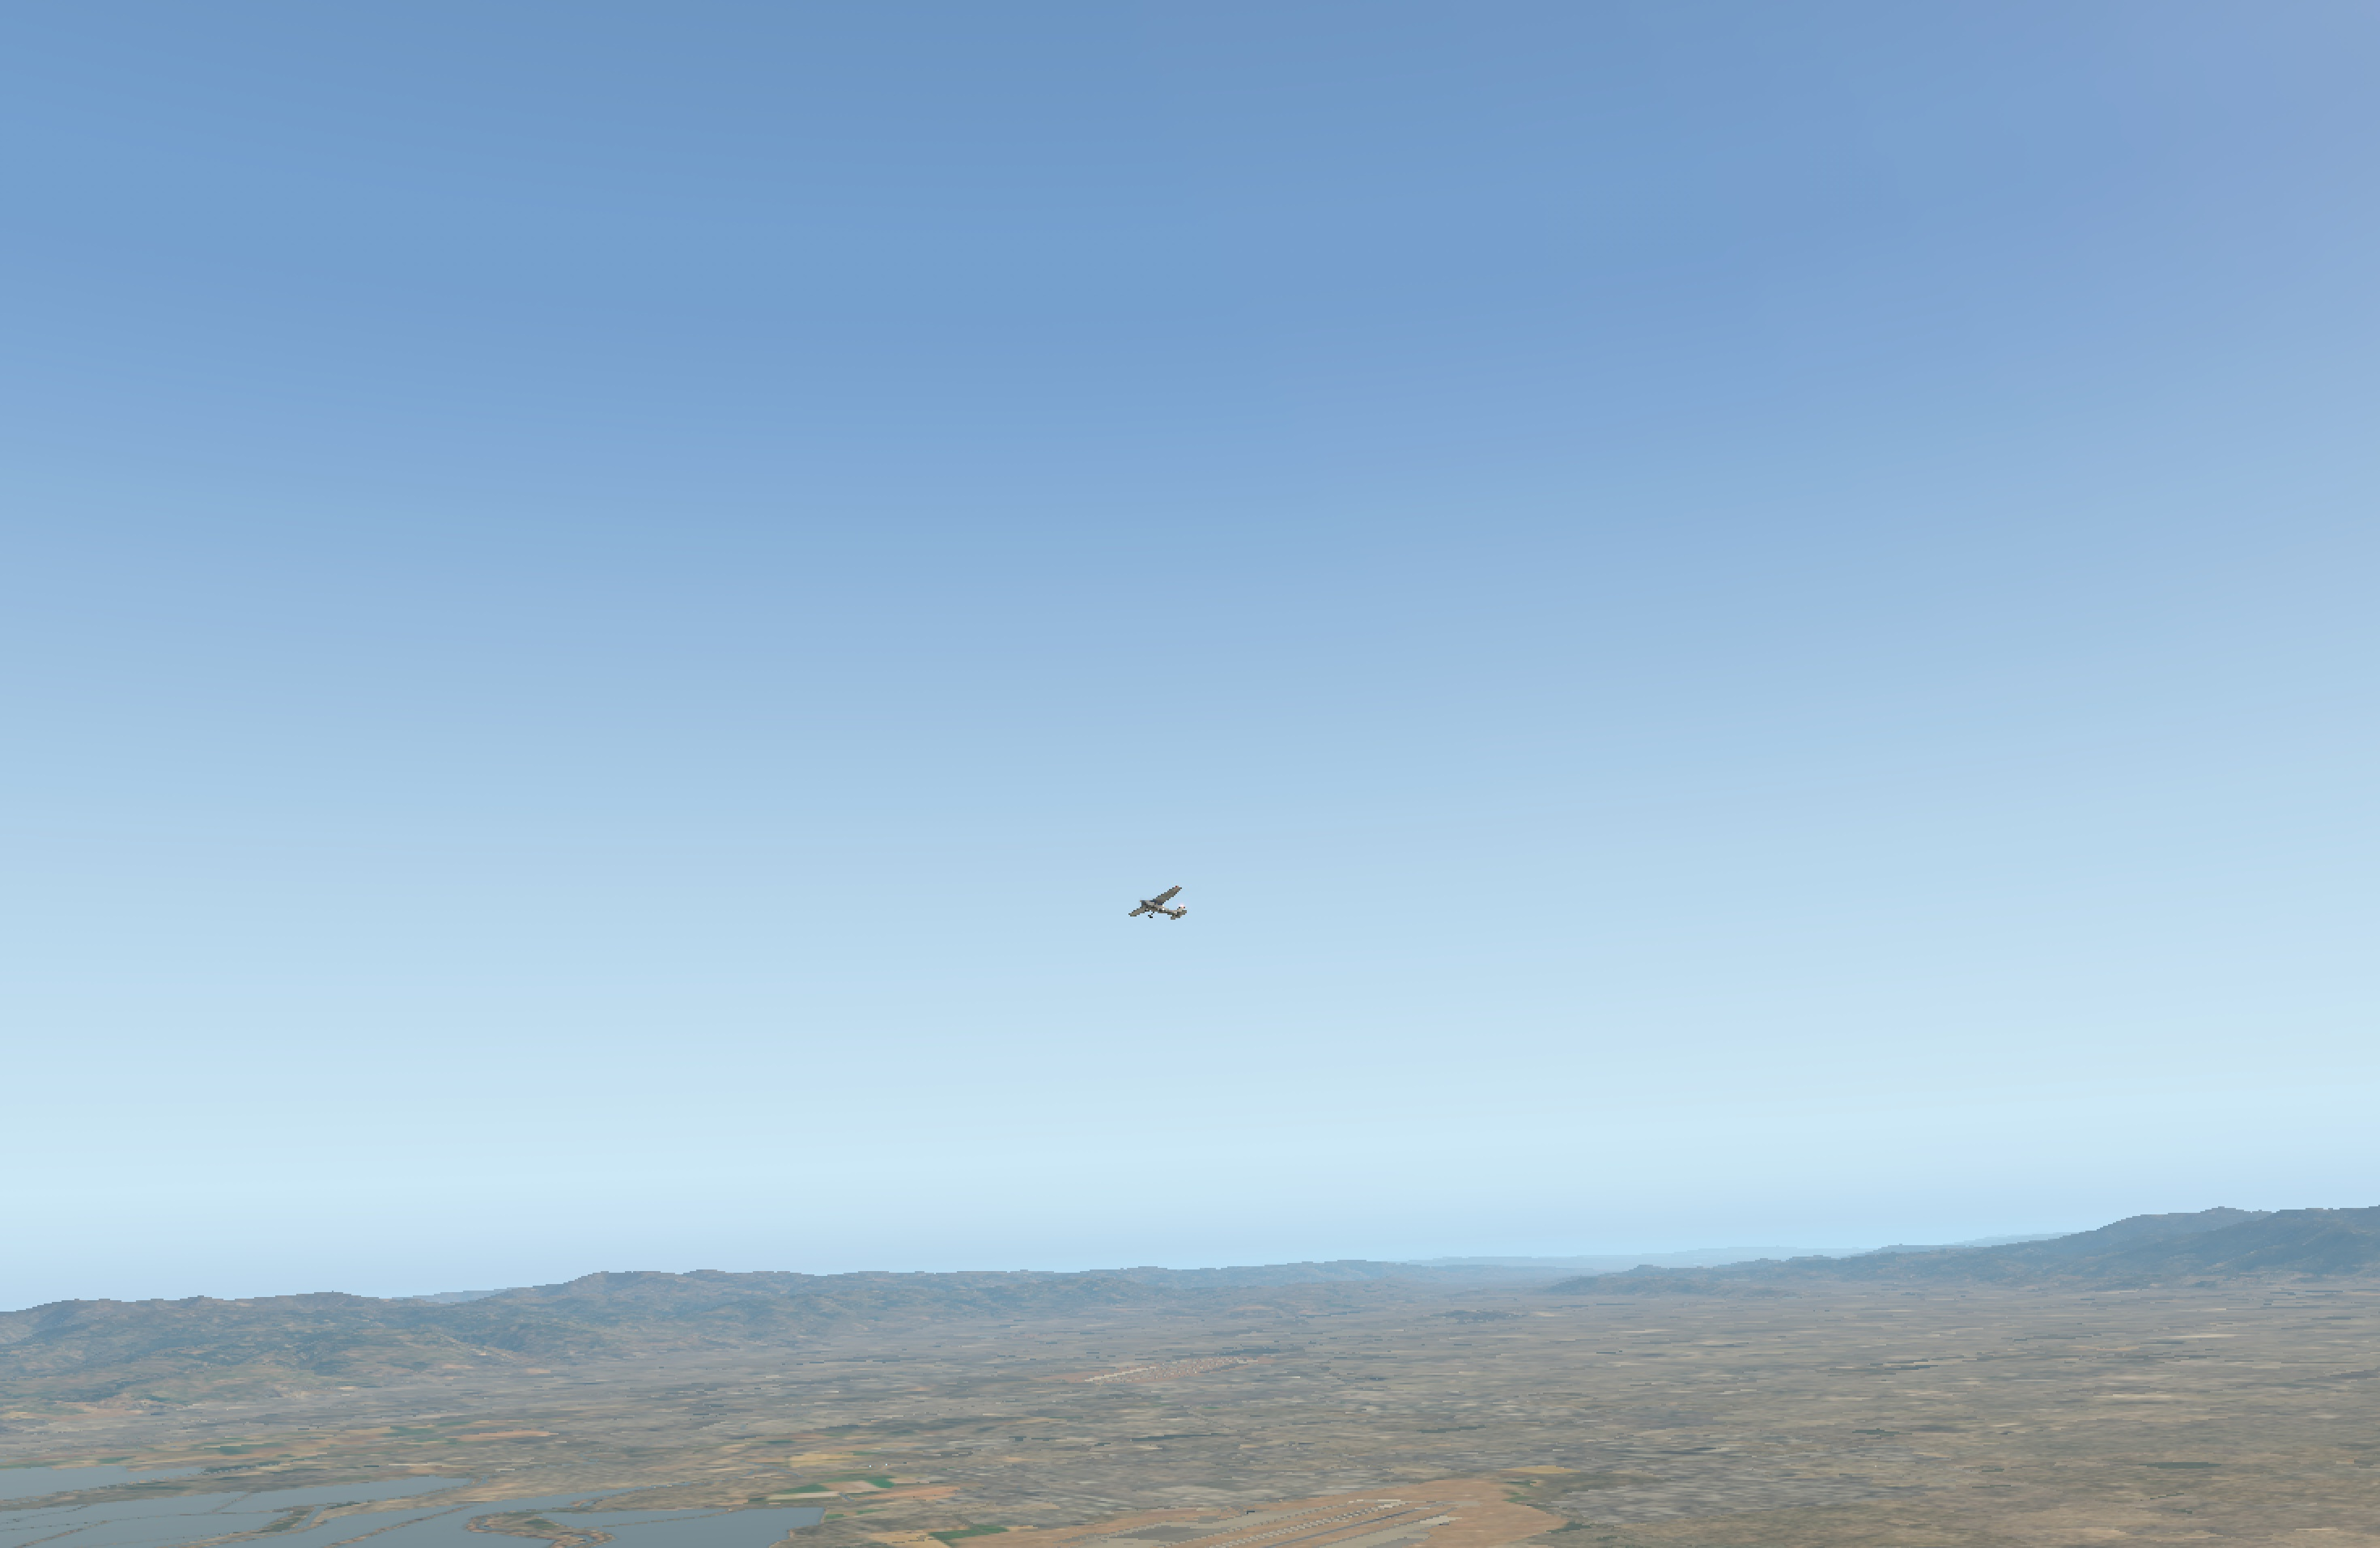aircraft: (1126, 895, 1181, 916)
